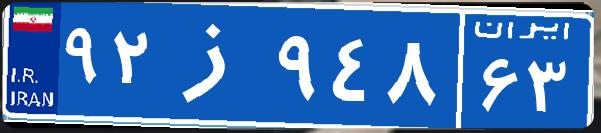2: (110, 28, 158, 105)
3: (525, 38, 570, 115)
4: (330, 28, 385, 110)
6: (475, 38, 525, 113)
8: (385, 28, 445, 110)
9: (273, 28, 330, 110), (57, 26, 110, 107)
ز: (158, 15, 273, 115)
